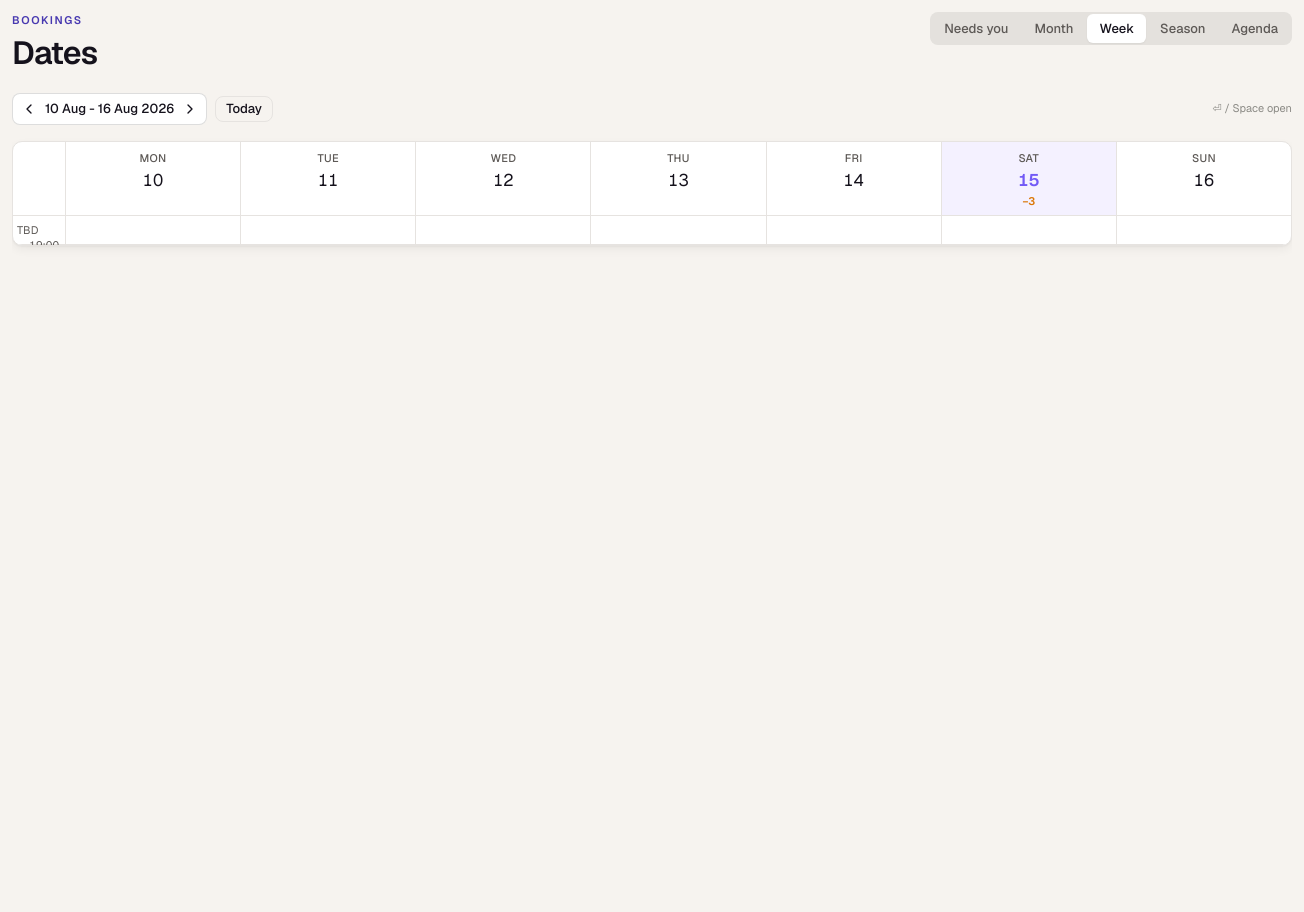
Test: CalendarSurface — Week + Season lenses › lens="week": WeekLens time grid renders, and the PeriodNavigator shows the week label and advances by a week on Next
Expected: the element with test id "week-lens" is shown, [12,140,1292,246]
Expected: the element with test id "period-navigator-pill" reads "10 Aug - 16 Aug 2026", [45,100,174,117]
Click the button with test id "period-navigator-next" at (190,108), box [176,94,204,122]
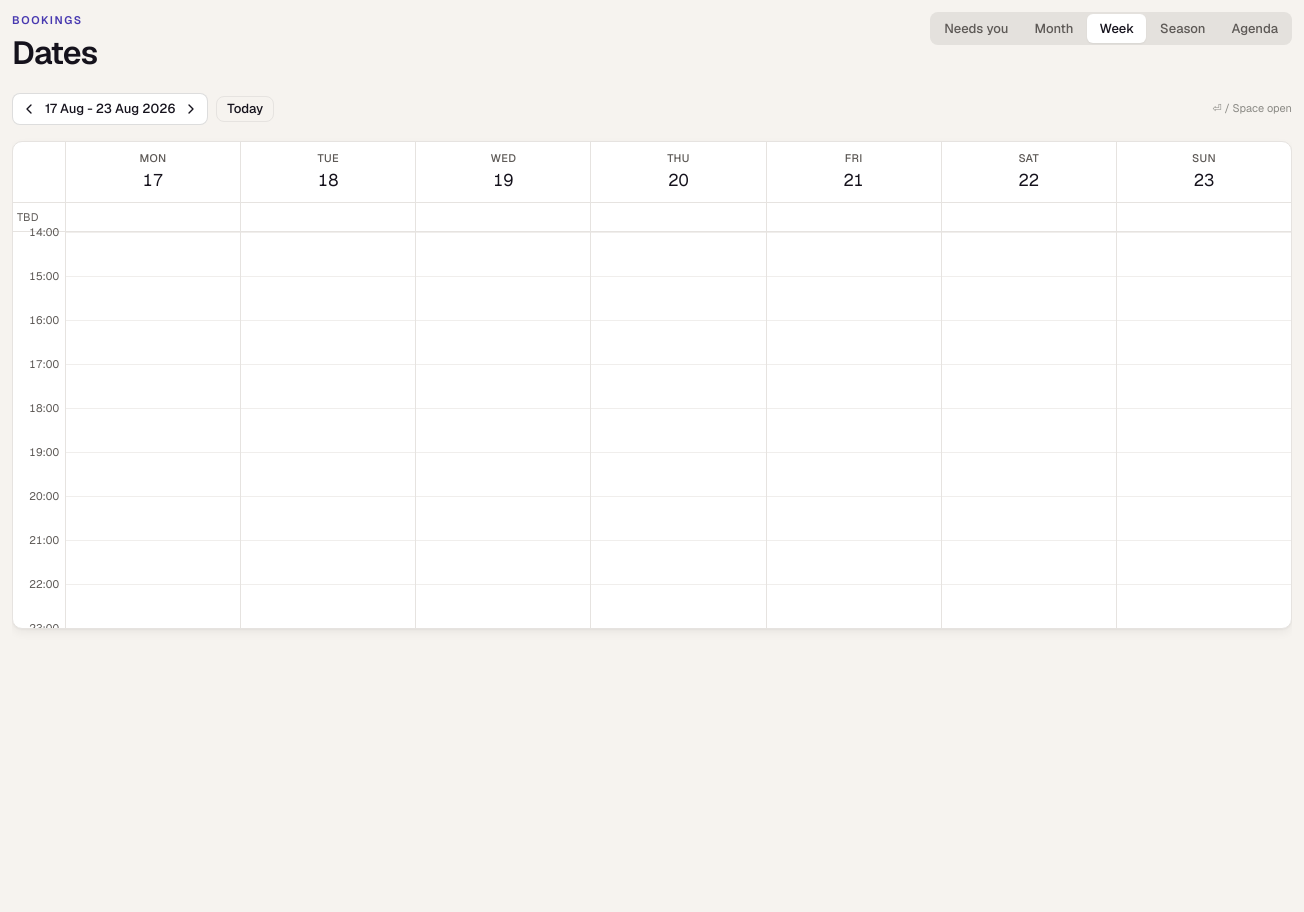
Expected: the element with test id "period-navigator-pill" reads "17 Aug - 23 Aug 2026", [45,100,175,117]
